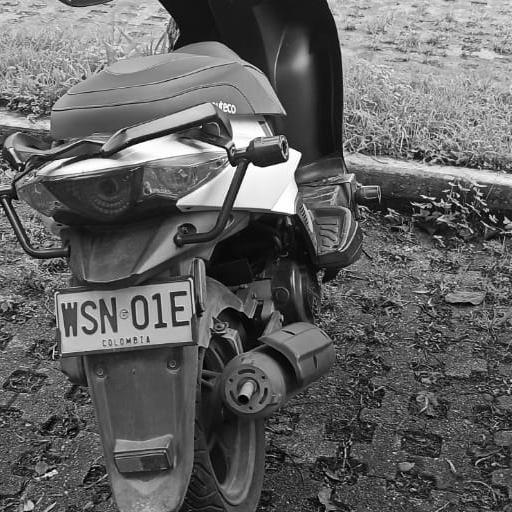placa: (51, 279, 198, 353)
